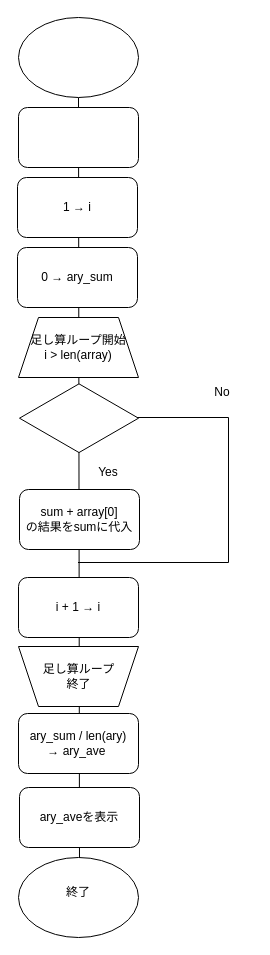
Image size: 270x955. Some labels were removed from this diagram. The shapes that lost their labels are listed below. From the top down, each one's centre as x and y in pixels, then its label:
At (78,57): "開始".
At (78,137): "配列aryを宣言し、初期化".
At (78,418): "max_sum_range =< ary[i] =< min_sum_drange".
